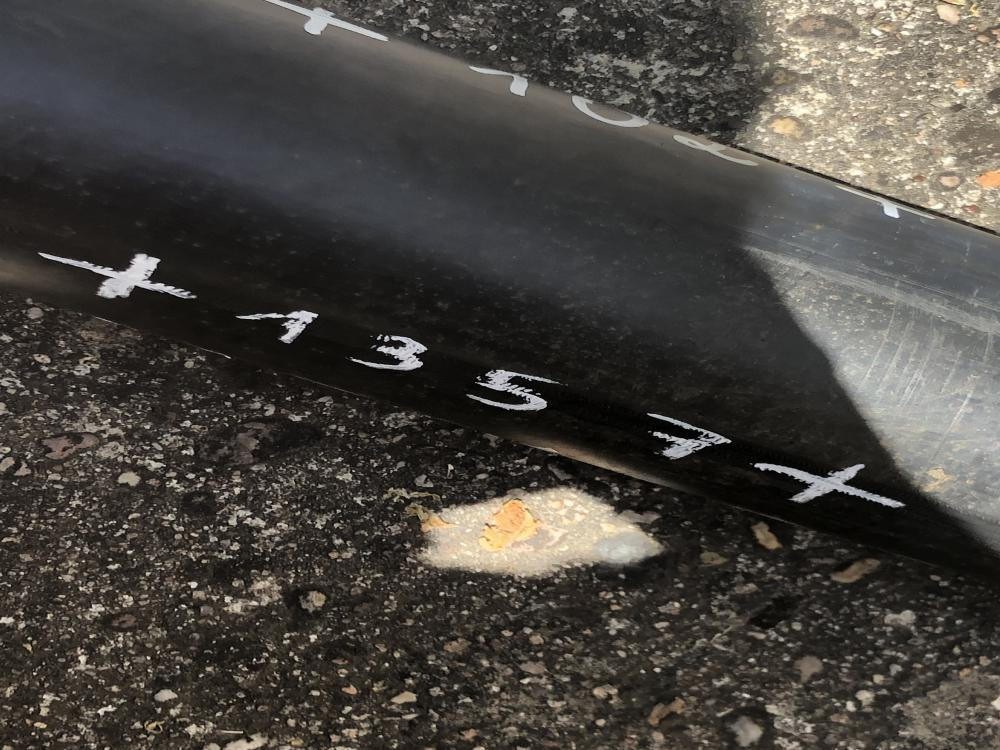+: (34, 250, 201, 302), (749, 461, 910, 510), (260, 0, 396, 44), (833, 184, 939, 224)
1: (233, 308, 322, 346)
3: (347, 332, 431, 374)
5: (466, 368, 561, 416)
7: (644, 412, 734, 461)
